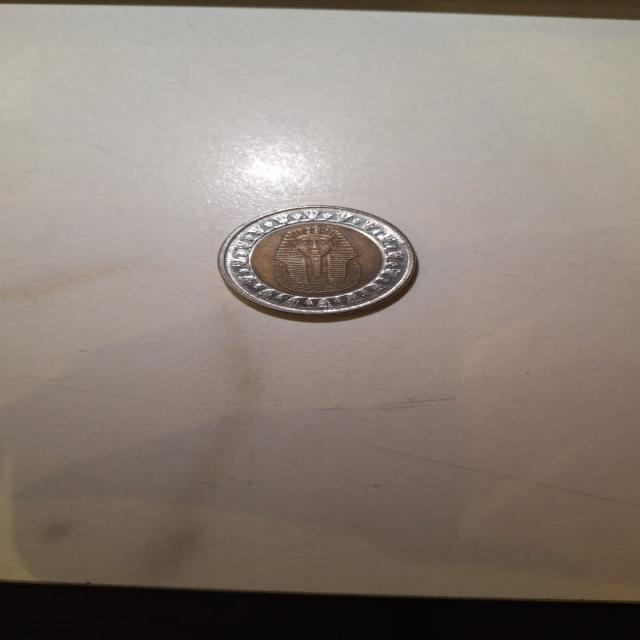One Pound: (205, 196, 428, 326)
